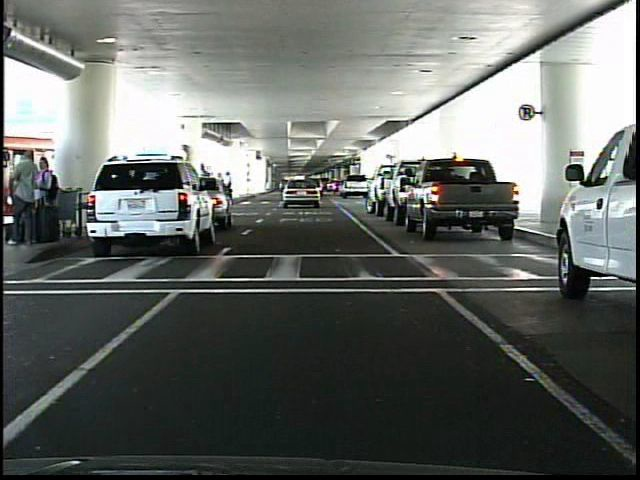person: (10, 148, 44, 246), (35, 157, 62, 246)
